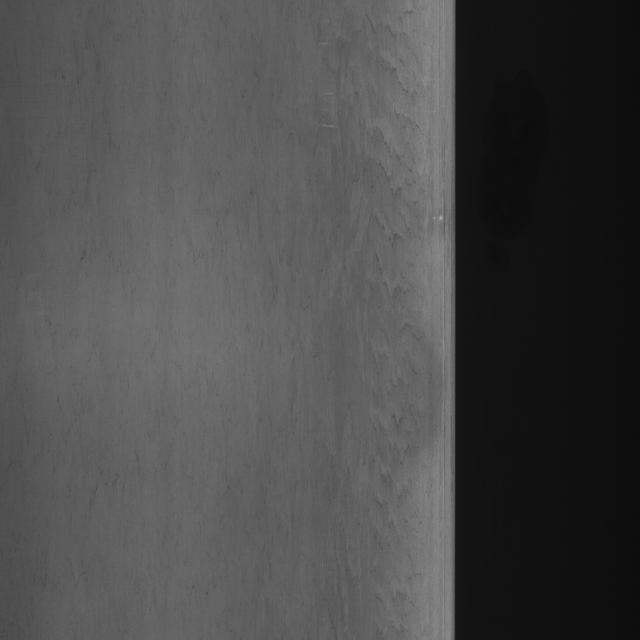inclusion: (322, 78, 430, 542)
